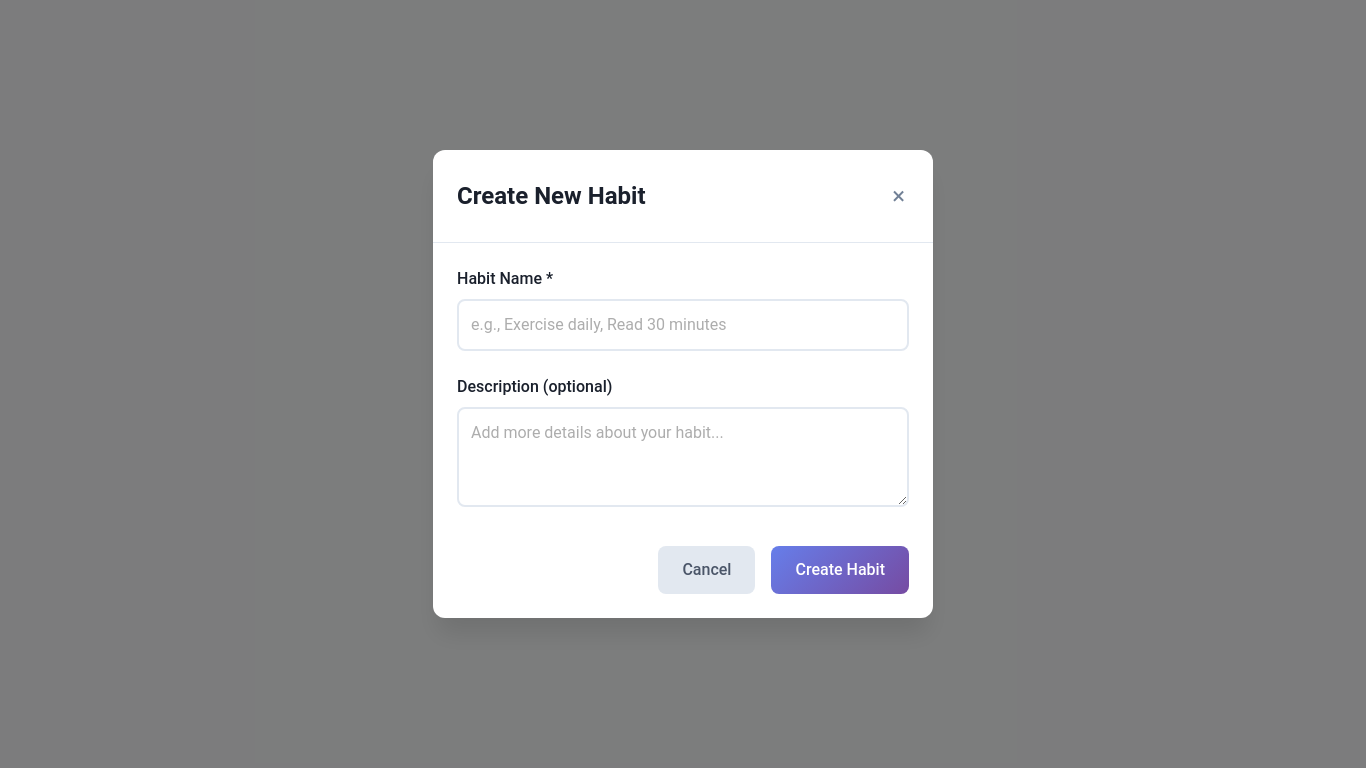
Scenario: CreateHabitForm › Form validation › clears errors when user starts typing
Click the button "Create Habit": (840, 570) [772,546,909,594]
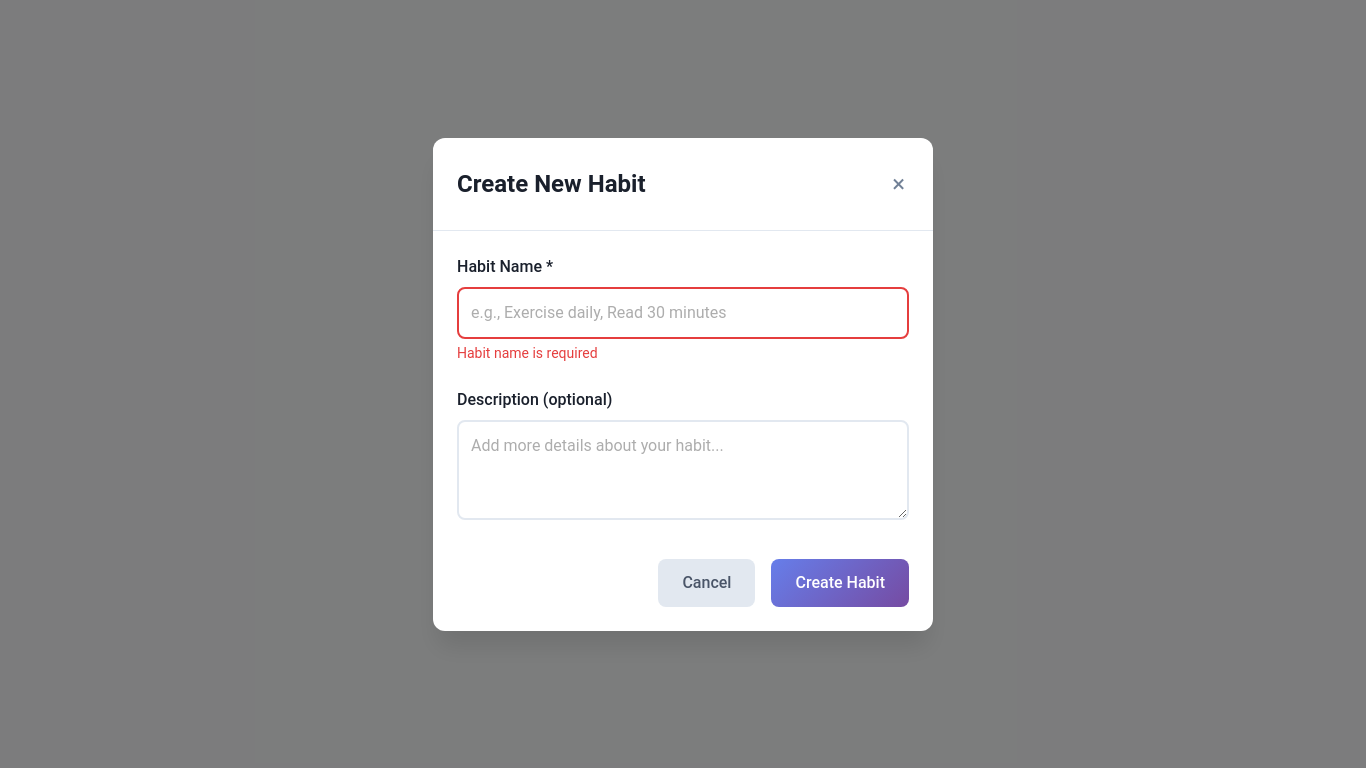
Expected: the text "Habit name is required" is shown, [457,344,598,360]
In the field labelled "Habit Name *": (683, 312) [457,286,909,338], type "Valid Name"
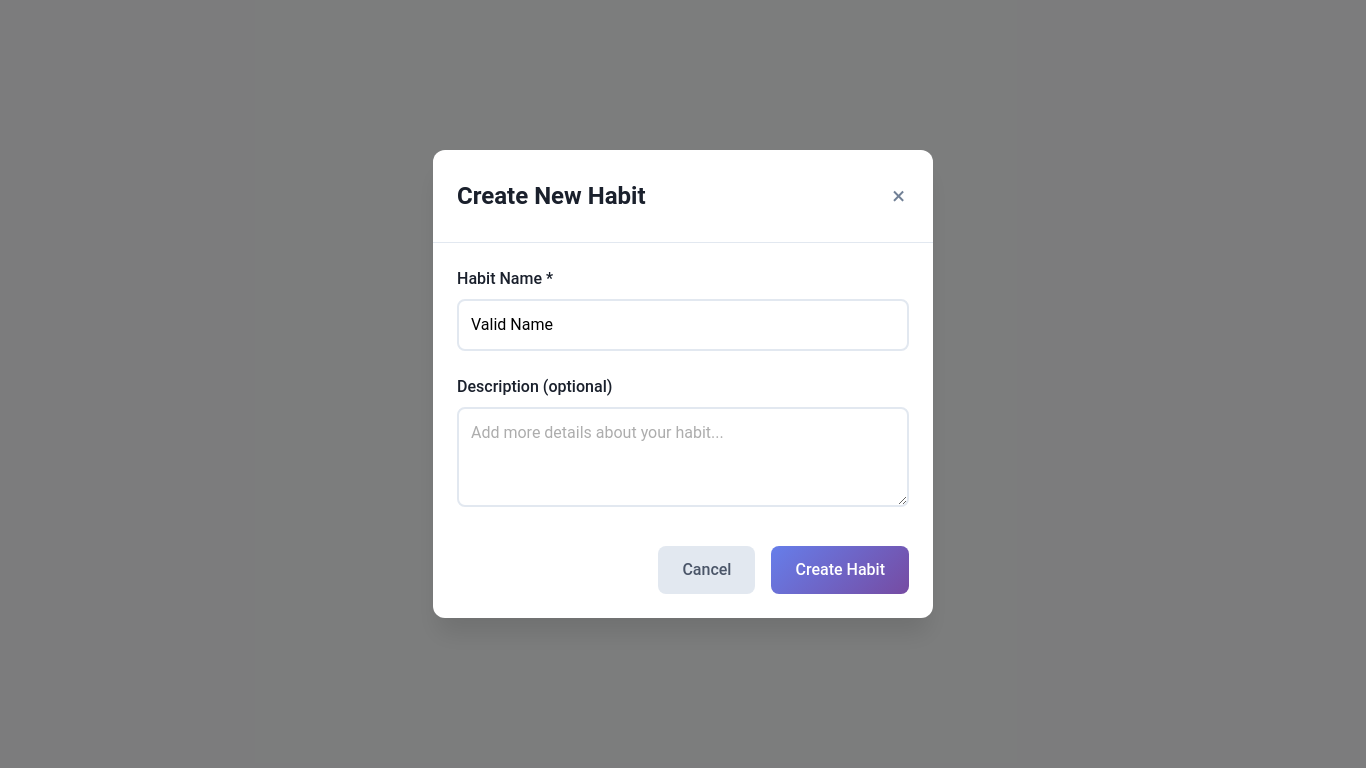
Expected: the text "Habit name is required" is gone
